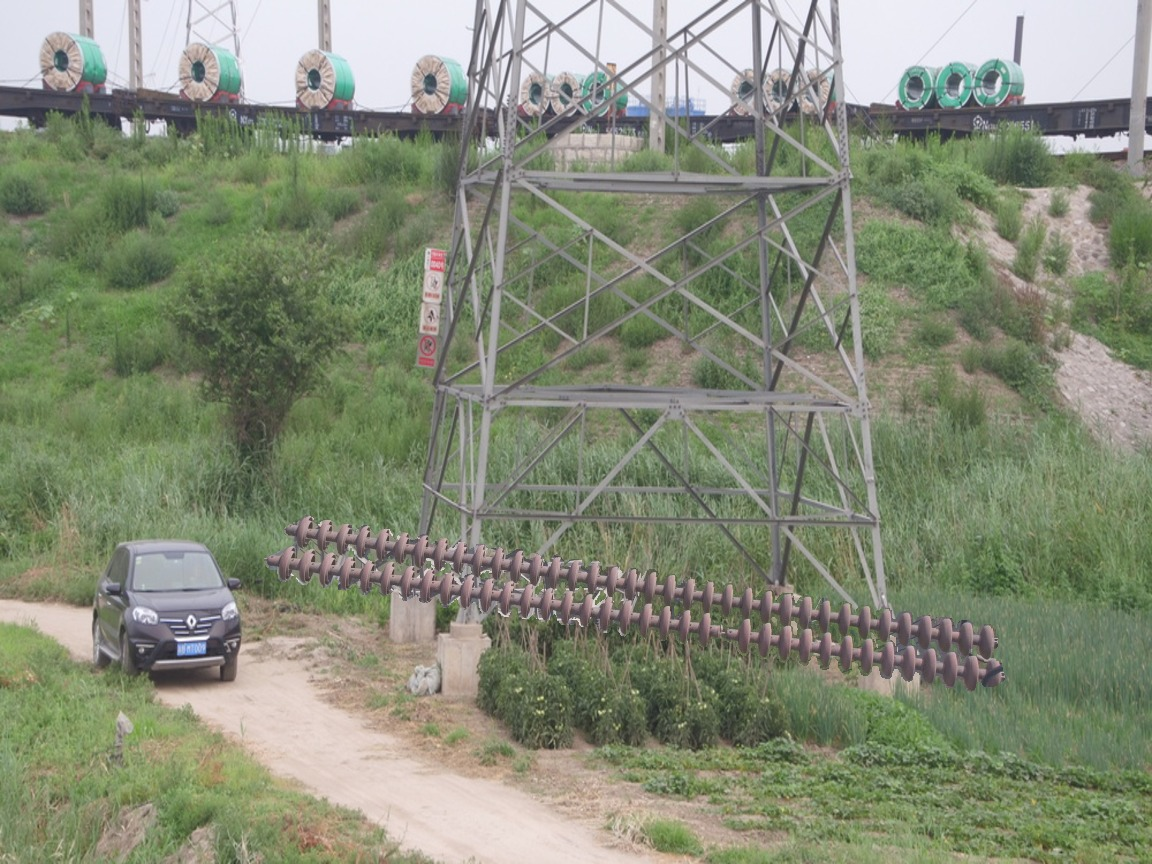defect: (691, 608, 760, 656)
